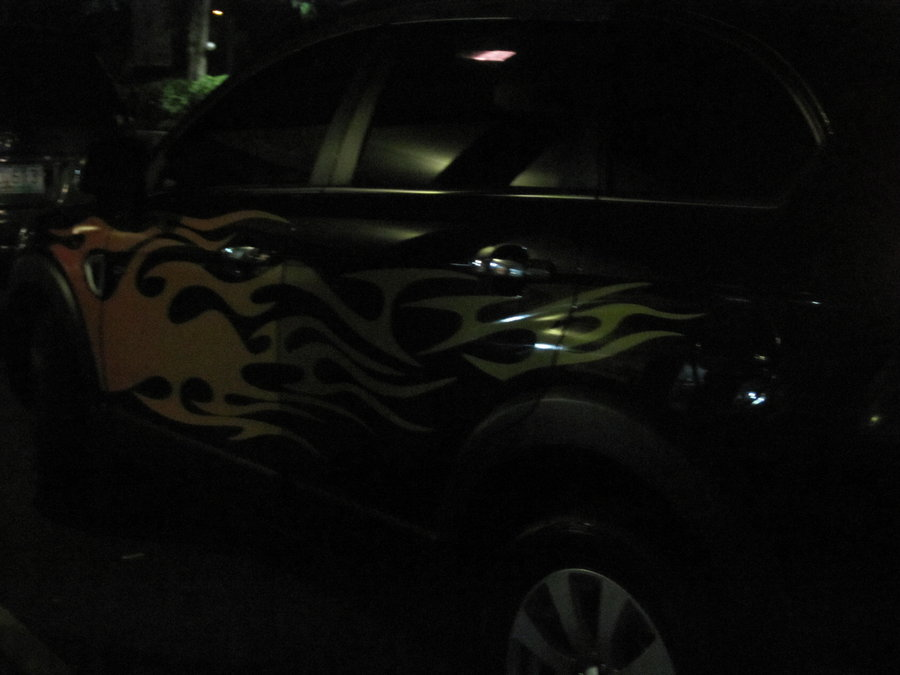car: (15, 11, 898, 664)
